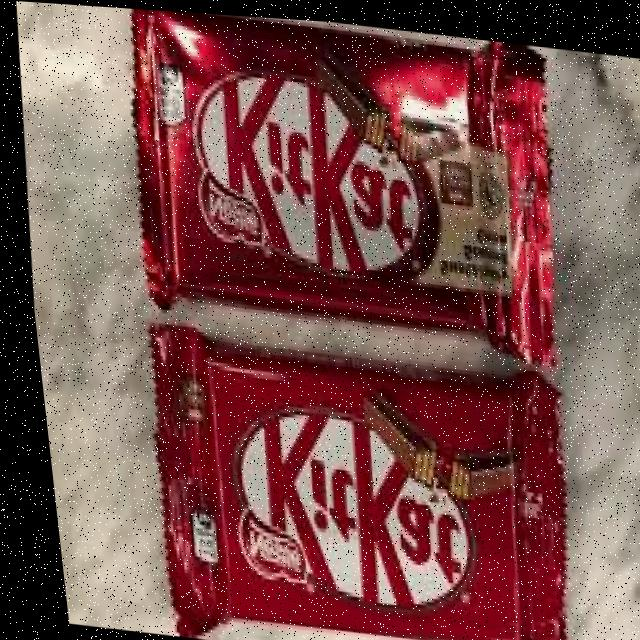kitkat: (113, 6, 575, 355), (127, 322, 580, 640)
